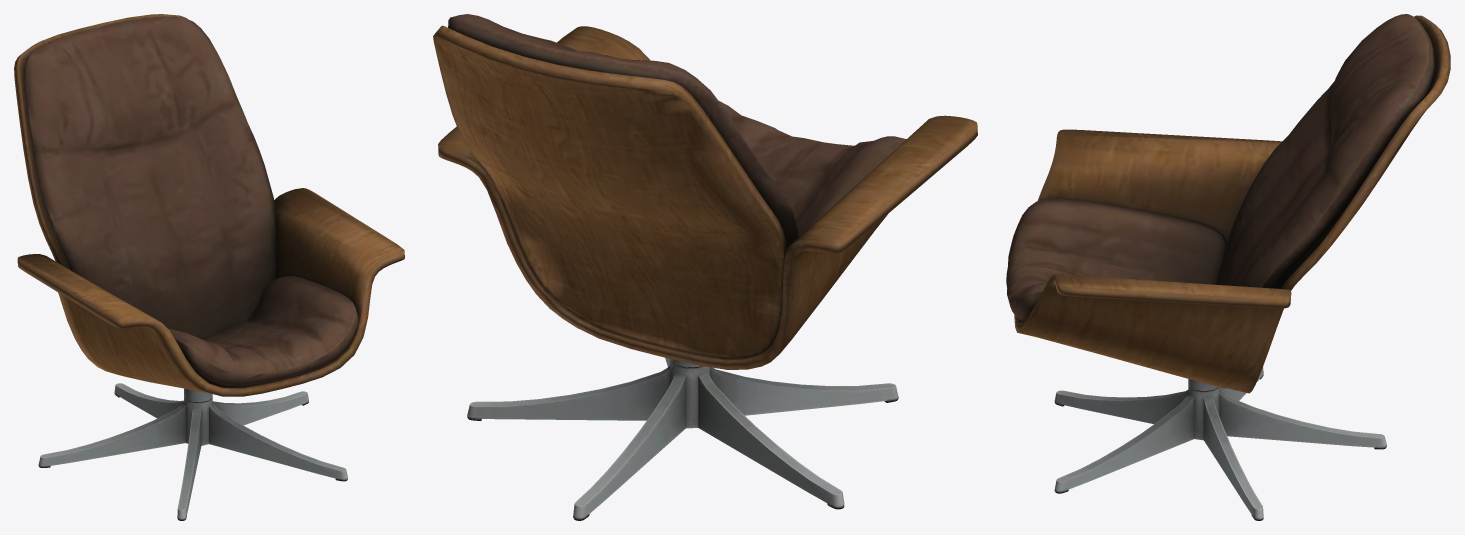
File: mid_century_lounge_chair.glb
3 views of the same model, side by side, from view 1: azimuth 30°, elevation 25°; view 2: azimuth 150°, elevation 25°; view 3: azimuth 270°, elevation 25° (orthographic). The views are drawn at different scales.
Visible parts, largest first — view 1: mid_century_lounge_chair; view 2: mid_century_lounge_chair; view 3: mid_century_lounge_chair.
Boxes of the visible parts, x1,y1,x2,y2 form: mid_century_lounge_chair: (14, 14, 404, 520); mid_century_lounge_chair: (433, 14, 977, 520); mid_century_lounge_chair: (1006, 14, 1450, 520).
Size of the model in its own units: 1.01 by 1.17 by 1.19.
Materials: 1 (1 with a texture image).
